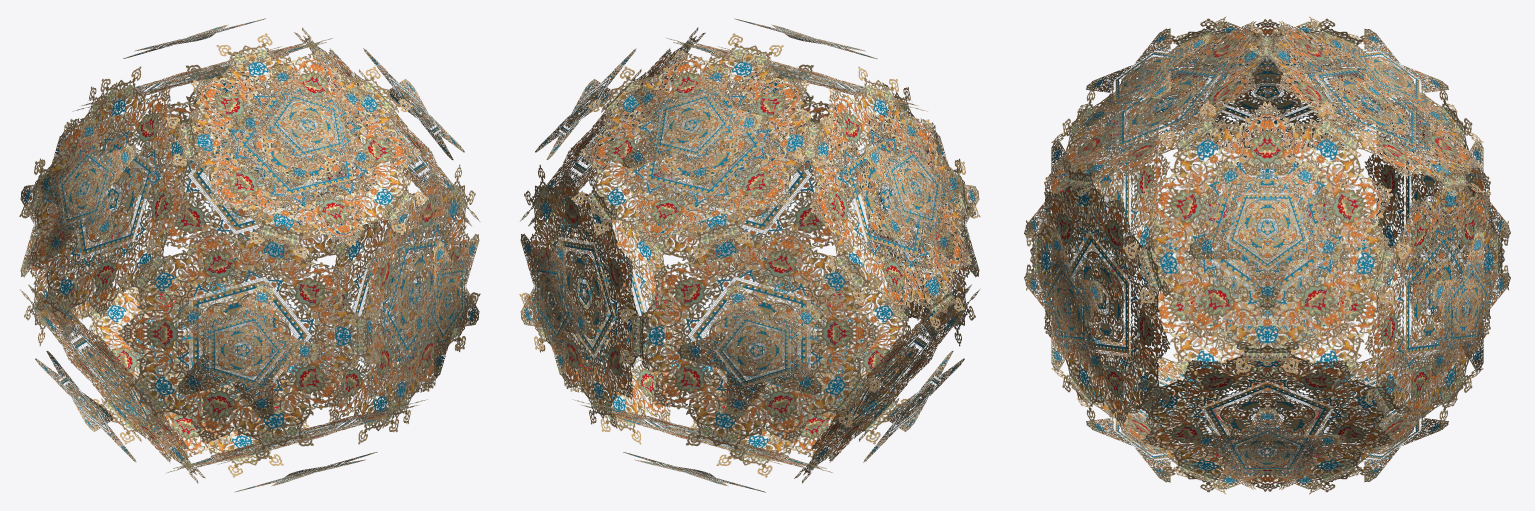
File: Icosidodecadodecahedron8.gltf
3 renders of one model, left to right at view 1: azimuth 30°, elevation 25°; view 2: azimuth 150°, elevation 25°; view 3: azimuth 270°, elevation 25°, orthographic. The views are drawn at different scales.
Parts seen in each view (by area): view 1: Icosidodecadodecahedron8; view 2: Icosidodecadodecahedron8; view 3: Icosidodecadodecahedron8.
Part boxes in pixels (bbox=[...]): Icosidodecadodecahedron8: bbox=[19, 18, 480, 492]; Icosidodecadodecahedron8: bbox=[519, 18, 980, 492]; Icosidodecadodecahedron8: bbox=[1024, 16, 1510, 494].
Bounding box in the file's own units: 2.62 × 2.62 × 2.62.
1 material, 1 textured.
